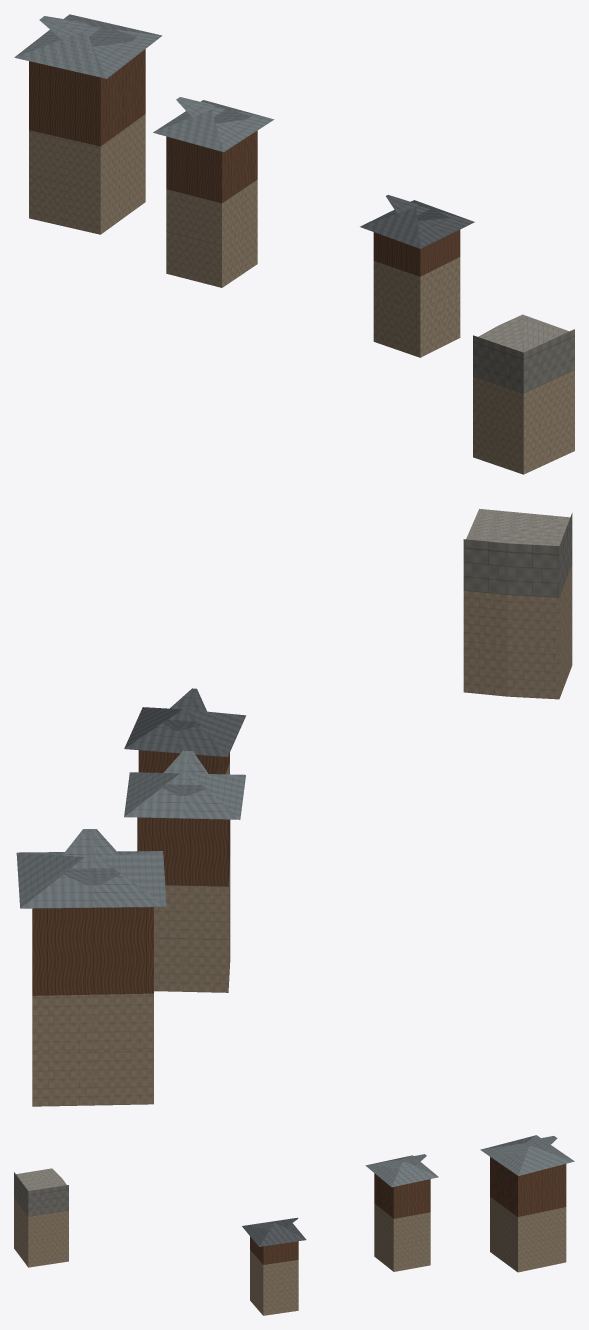
Rendered from bld_c-3_4_532.gltf.
The picture shows the model from 3 angles, top to bottom: view 1: azimuth 30°, elevation 25°; view 2: azimuth 150°, elevation 25°; view 3: azimuth 270°, elevation 25°; orthographic projection. The views are drawn at different scales.
Visible parts, largest first — view 1: bld_c-3_4_532; view 2: bld_c-3_4_532; view 3: bld_c-3_4_532.
Boxes of the visible parts, left/top/right/bottom form: bld_c-3_4_532: left=14, top=14, right=574, bottom=474; bld_c-3_4_532: left=16, top=508, right=572, bottom=1106; bld_c-3_4_532: left=14, top=1135, right=574, bottom=1315.
Size of the model in its own units: 13.96 by 10.8 by 44.99.
7 materials, 7 textured.
